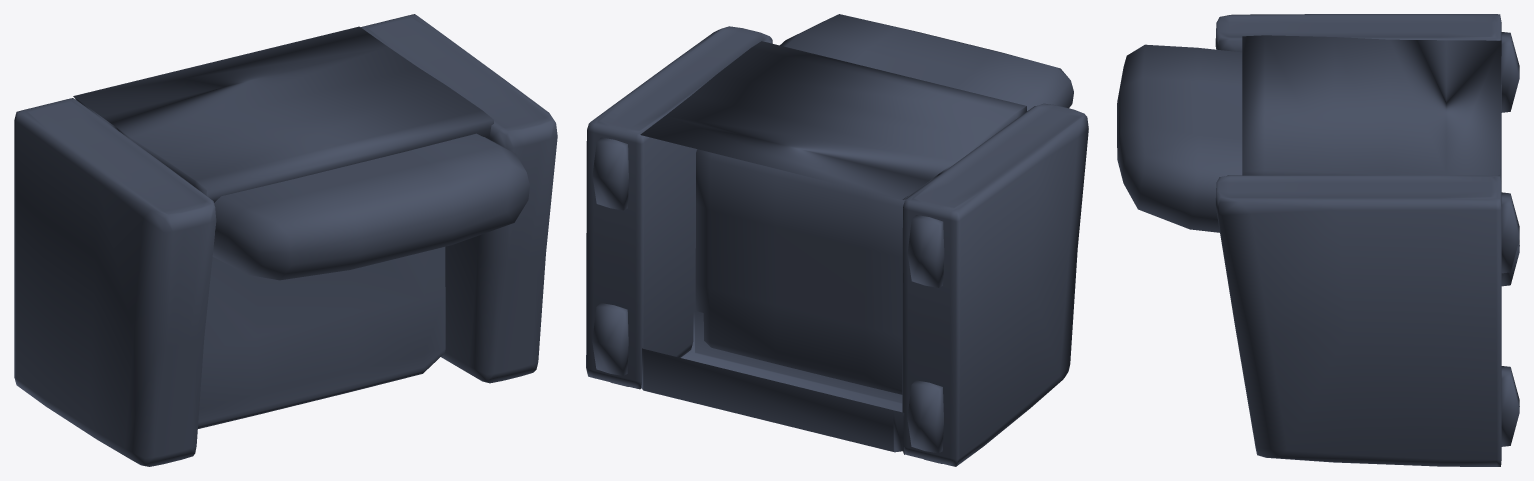
Rendered from MeshArmchair_219_0.obj.
The picture shows the model from 3 angles, left to right: view 1: azimuth 30°, elevation 25°; view 2: azimuth 150°, elevation 25°; view 3: azimuth 270°, elevation 25°; orthographic projection. The views are drawn at different scales.
Visible parts, largest first — view 1: Armchair_219; view 2: Armchair_219; view 3: Armchair_219.
Boxes of the visible parts, x1,y1,x2,y2 form: Armchair_219: (14, 14, 557, 466); Armchair_219: (586, 14, 1088, 466); Armchair_219: (1117, 14, 1519, 466).
Size of the model in its own units: 1.41 by 0.9625 by 1.26.
